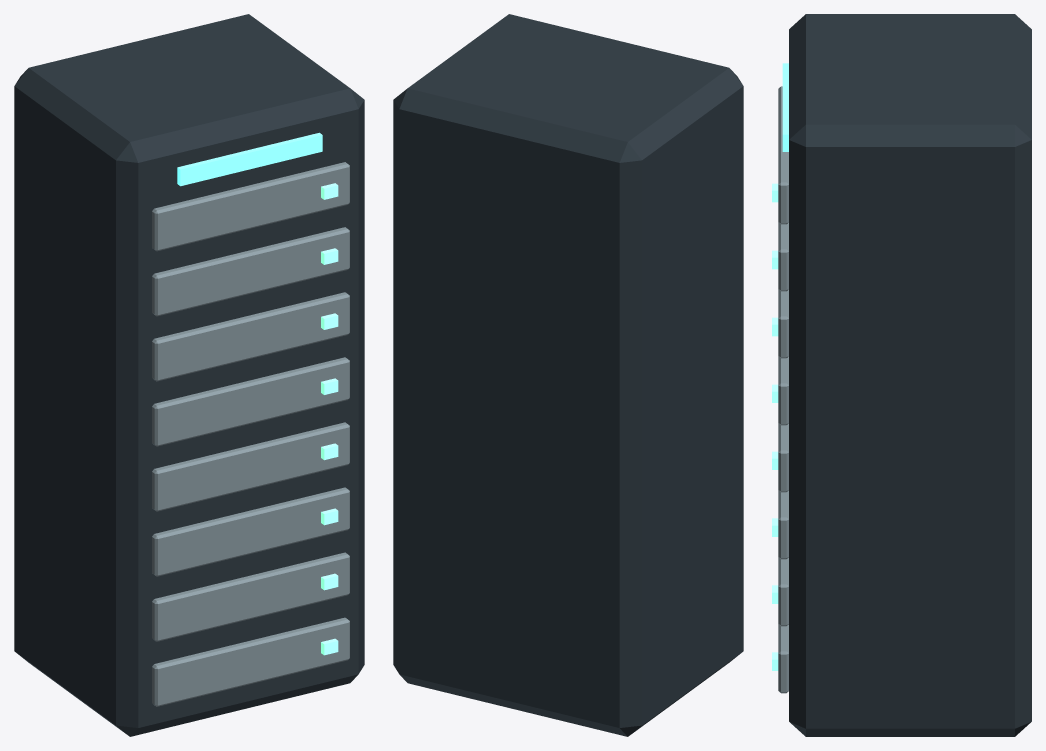
The model's file is server-rack.lod0.glb.
3 views of the same model, side by side, from view 1: azimuth 30°, elevation 25°; view 2: azimuth 150°, elevation 25°; view 3: azimuth 270°, elevation 25° (orthographic). The views are drawn at different scales.
Visible parts, largest first — view 1: structure; view 2: structure; view 3: structure.
Boxes of the visible parts, <box> form: structure: <box>14,14,364,736</box>; structure: <box>393,14,743,736</box>; structure: <box>772,14,1031,736</box>.
Bounding box in the file's own units: 1.4 × 3.2 × 1.23.
